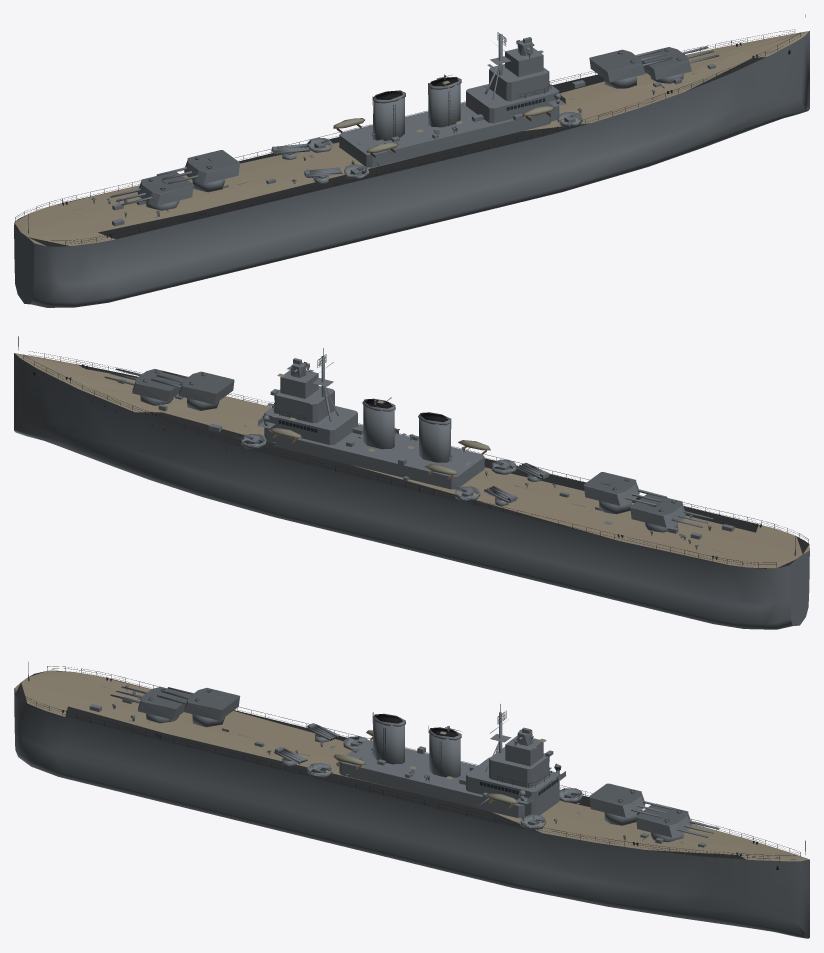
Rendered from fiji_lod.glb.
3 renders of one model, top to bottom at view 1: azimuth 30°, elevation 25°; view 2: azimuth 150°, elevation 25°; view 3: azimuth 330°, elevation 25°, orthographic.
Parts seen in each view (by area): view 1: fiji_lod; view 2: fiji_lod; view 3: fiji_lod.
Part boxes in pixels (x1,y1,x2,y2): fiji_lod: [14, 14, 809, 307]; fiji_lod: [14, 336, 809, 629]; fiji_lod: [14, 662, 809, 938].
Bounding box in the file's own units: 169 × 34.49 × 19.91.
